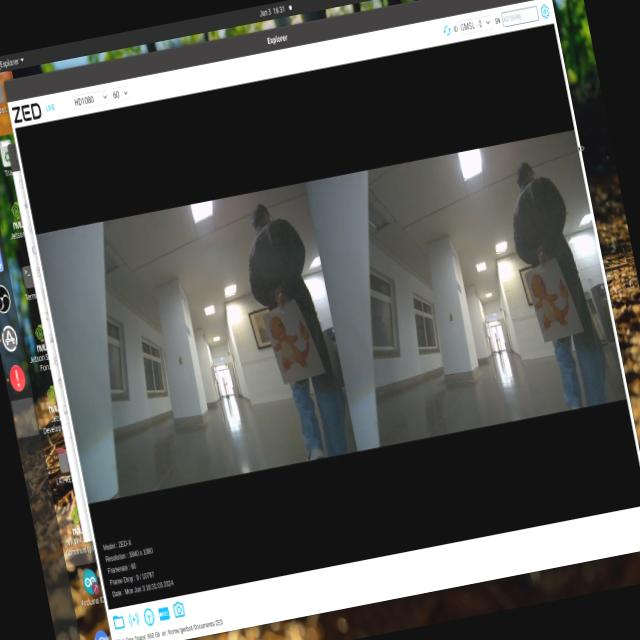red: (520, 252, 580, 336), (262, 301, 318, 376)
